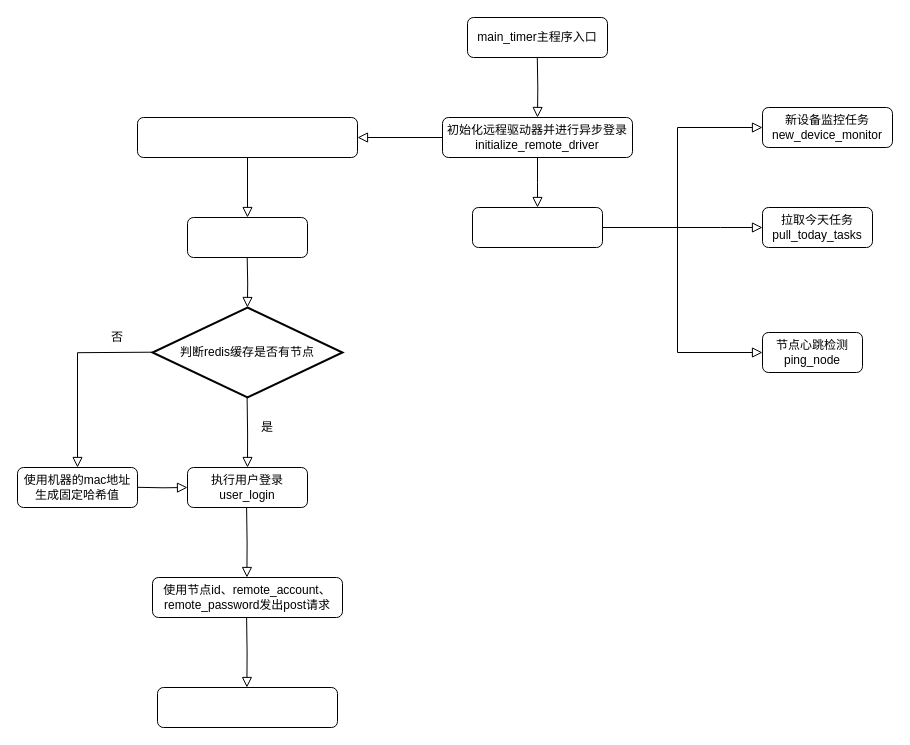
The diagram is 910 pixels wide and 745 high, and some of its shapes have lost their labels. Here are the shapes that lost their labels. From the top down, the box of each, then its label:
(136, 116, 358, 158): 从环境配置中获取账号密码 remote_account、remote_password
(186, 216, 308, 258): 给节点添加唯一id
(472, 206, 602, 248): 异步执行启动时任务 startup_initial_tasks
(156, 686, 338, 728): 将token缓存到redis和全局变量
